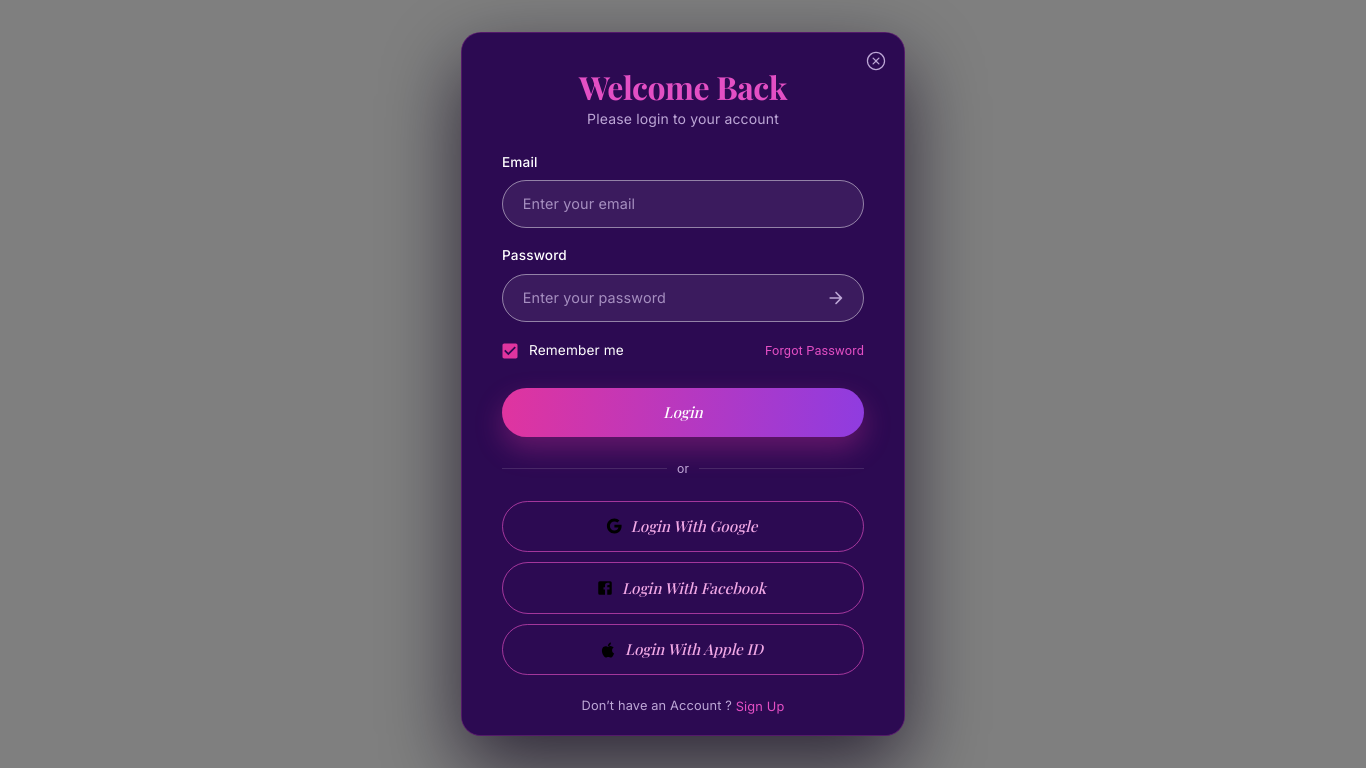
when a sign-in fails › passes through a refusal the provider named itself
In the field labelled "Email": coordinates (683, 204) [502, 180, 864, 228], type "member@example.test"
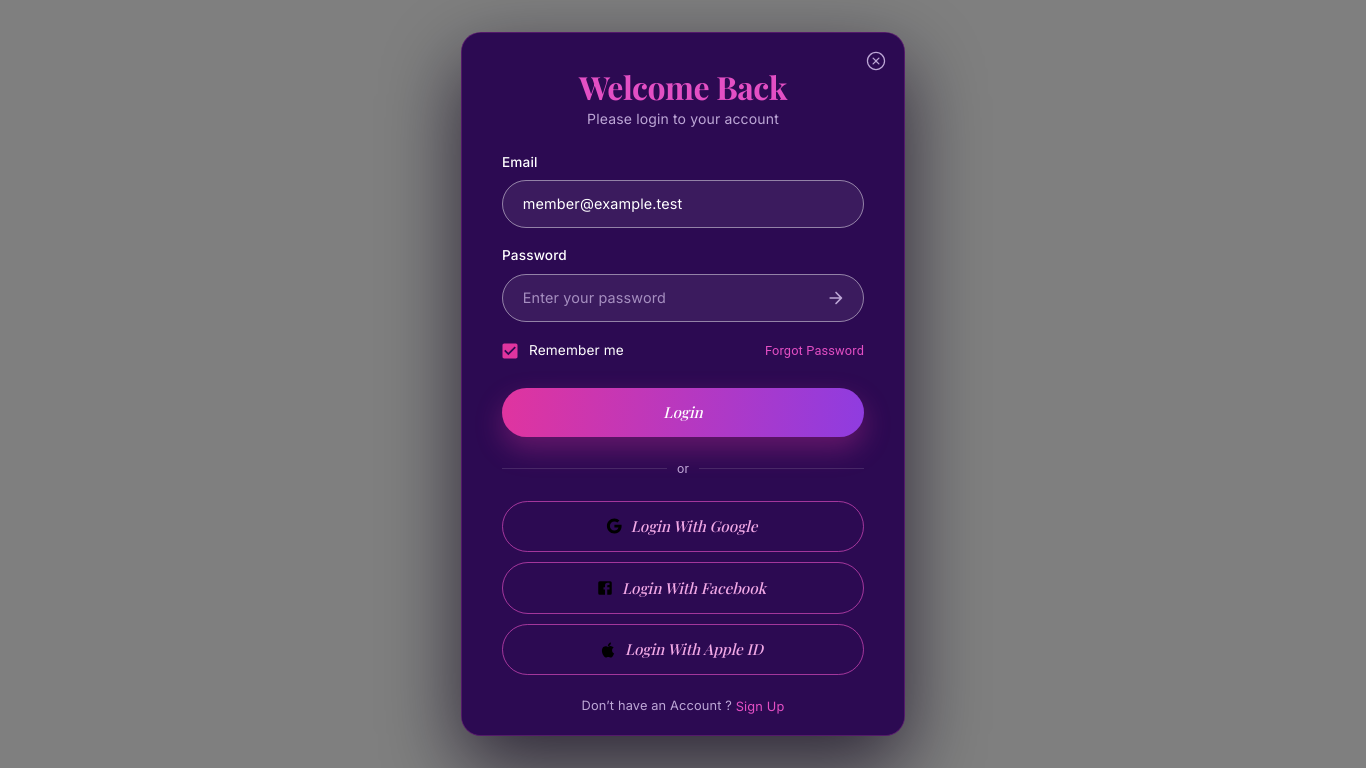
In the password field labelled "Password": coordinates (656, 298) [502, 274, 810, 322], type "a-password"
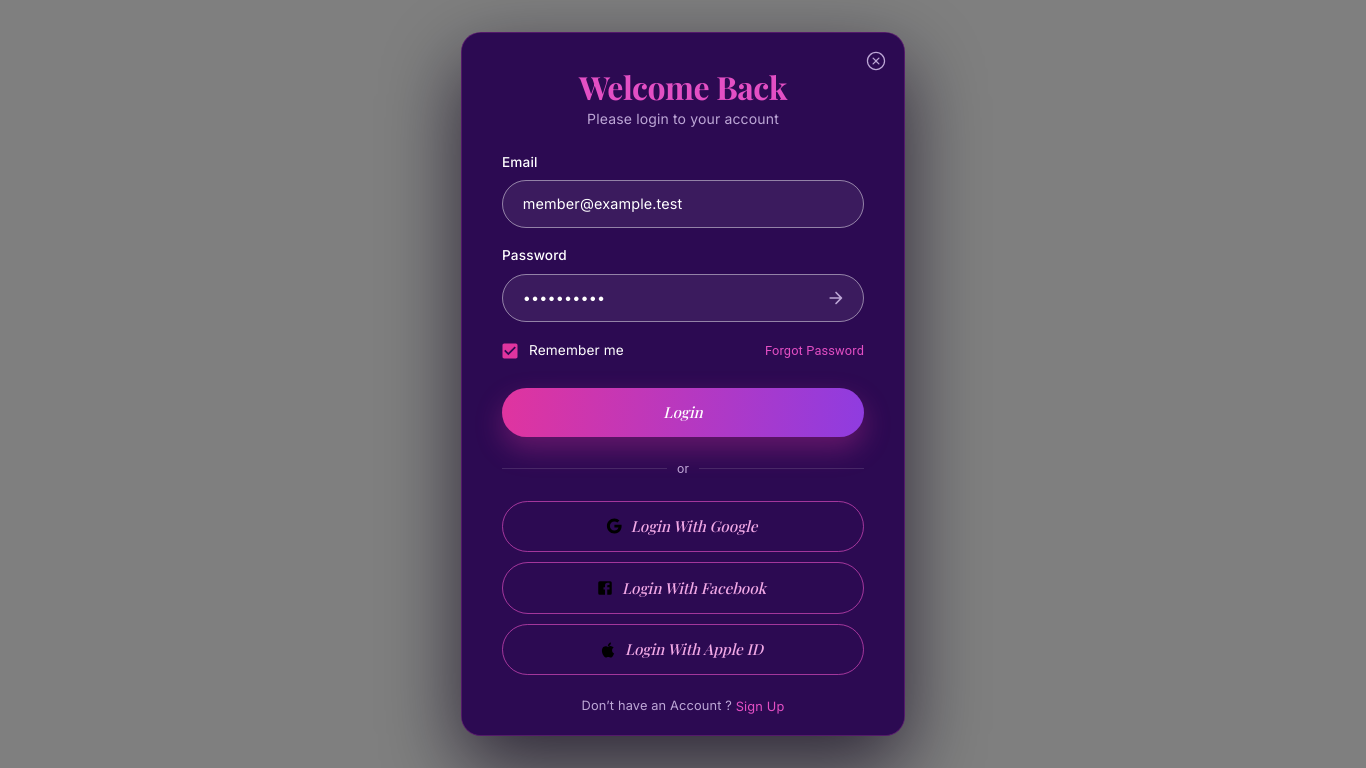
Click the button "Login": coordinates (683, 412) [502, 388, 864, 437]
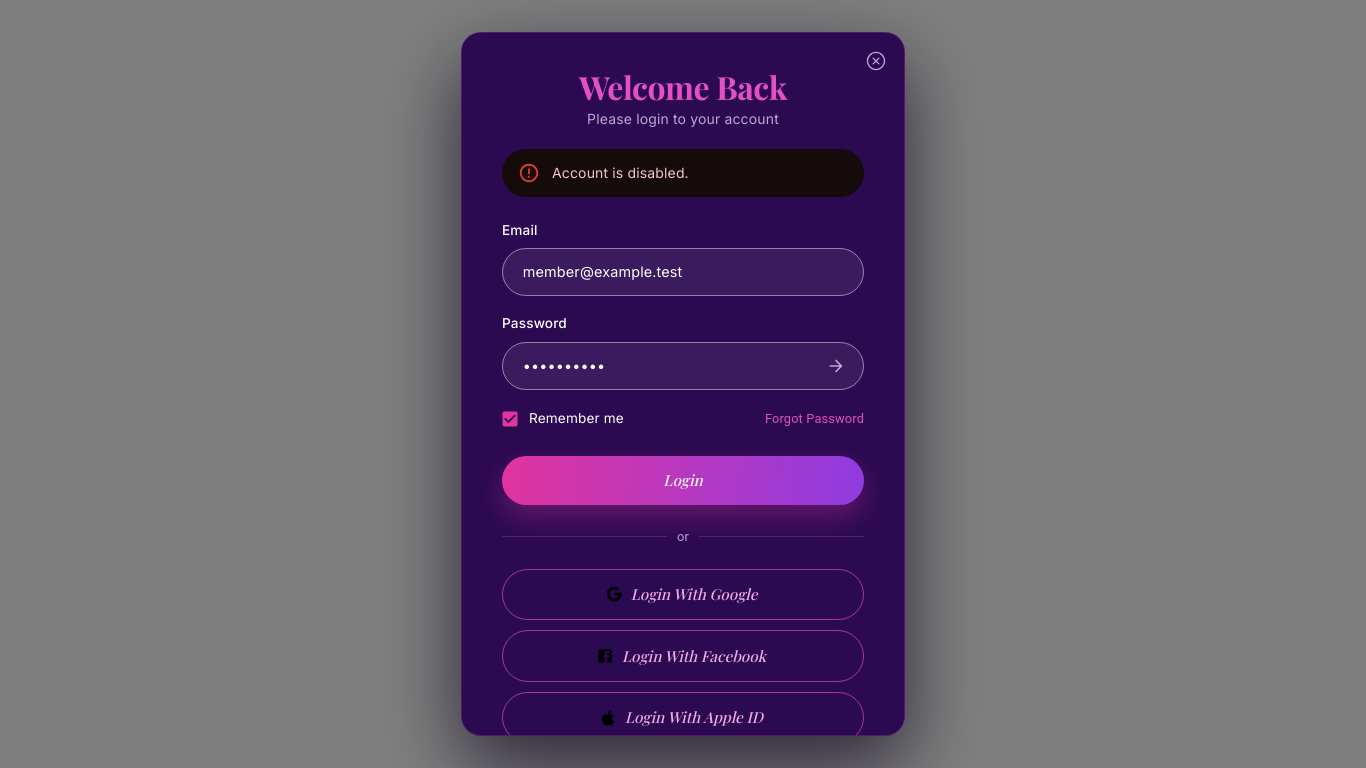
expect the message reads "Account is disabled.": met, box [552, 164, 689, 181]
